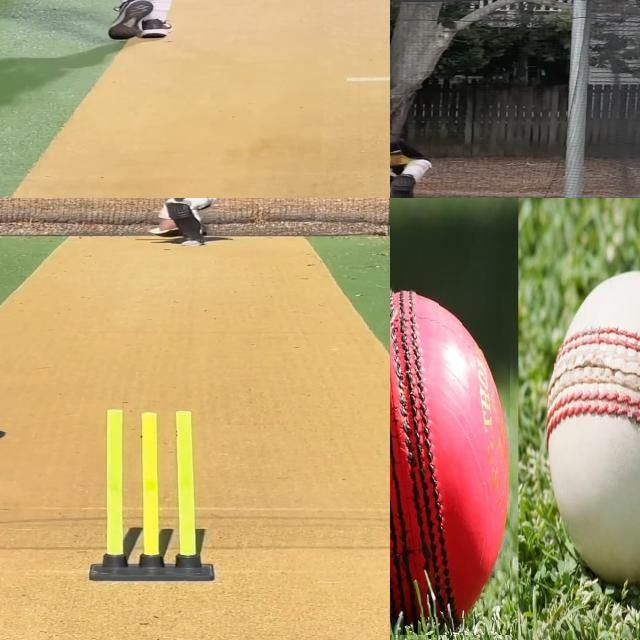Cricket ball: (390, 273, 510, 635), (540, 263, 640, 620)
Stumps: (89, 406, 213, 582)
